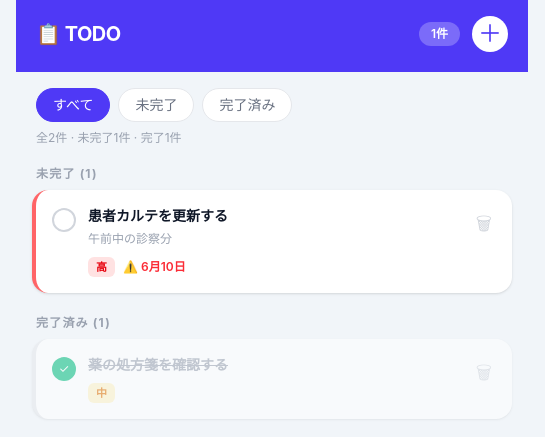
Test: Page コンポーネント — フィルター › 「すべて」フィルターに戻すと全タスクを表示する
Expected: the text "患者カルテを更新する" is shown, [88, 207, 228, 224]
Click the button "未完了" at (156, 105), box [118, 88, 194, 122]
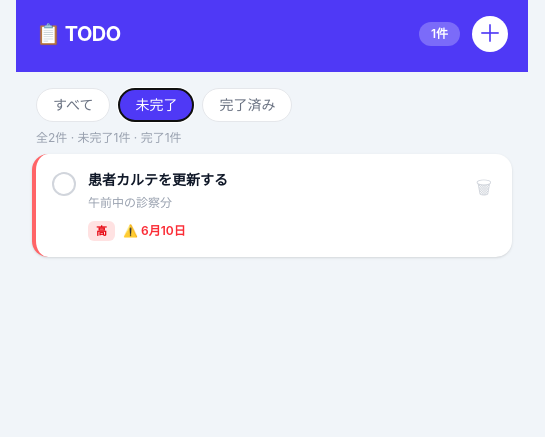
Click the button "すべて" at (73, 105), box [36, 88, 110, 122]
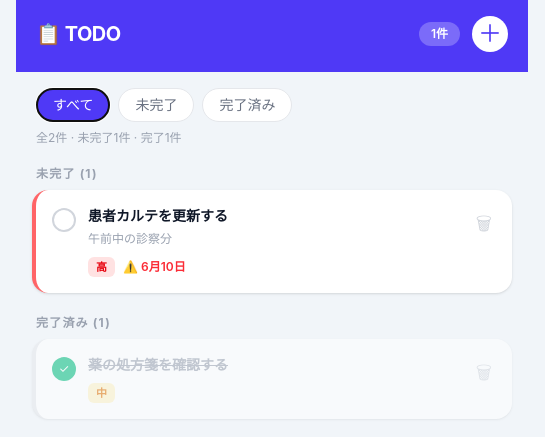
Expected: the text "患者カルテを更新する" is shown, [88, 207, 228, 224]
Expected: the text "薬の処方箋を確認する" is shown, [88, 356, 228, 373]
